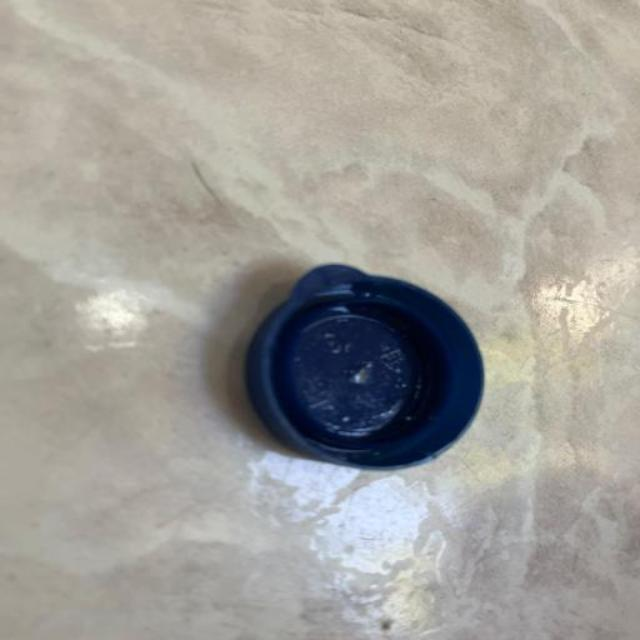HDPE: (183, 225, 563, 511)
